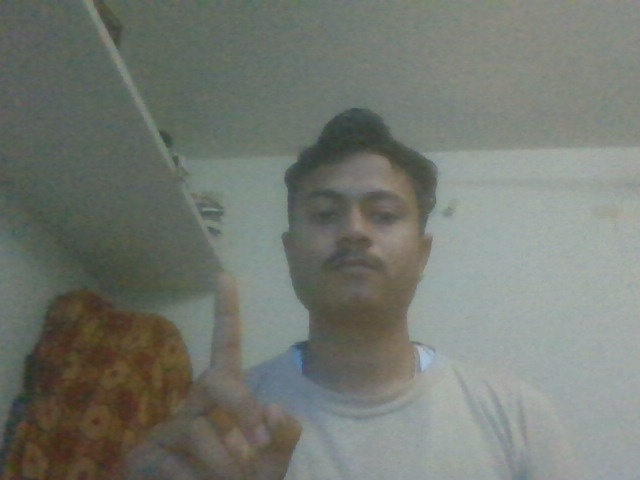No: (134, 255, 312, 480)
